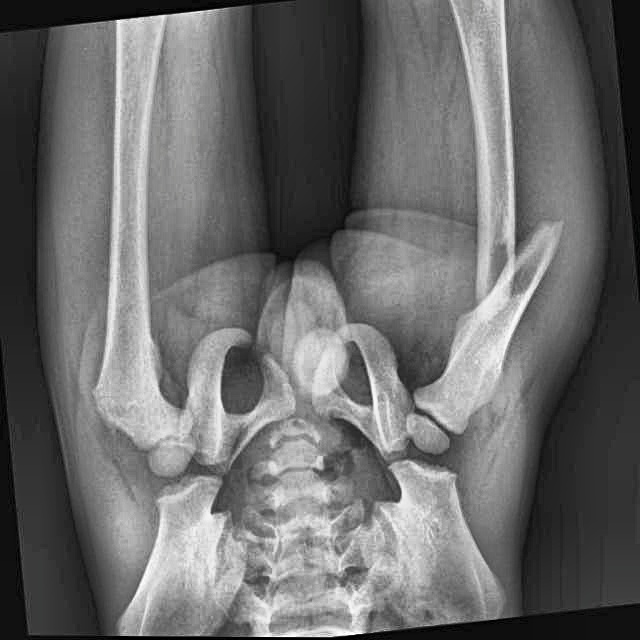Oblique: (450, 193, 570, 338)
